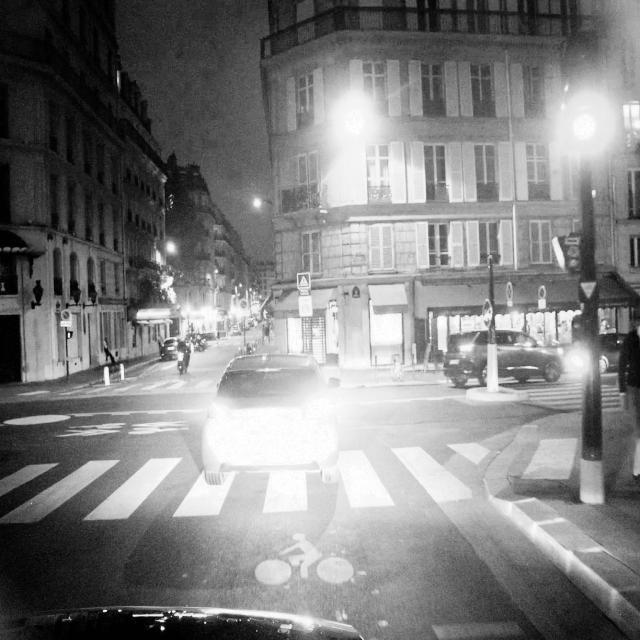Car: (202, 349, 343, 487)
Light: (569, 30, 604, 155), (571, 314, 592, 376), (552, 235, 572, 270)
